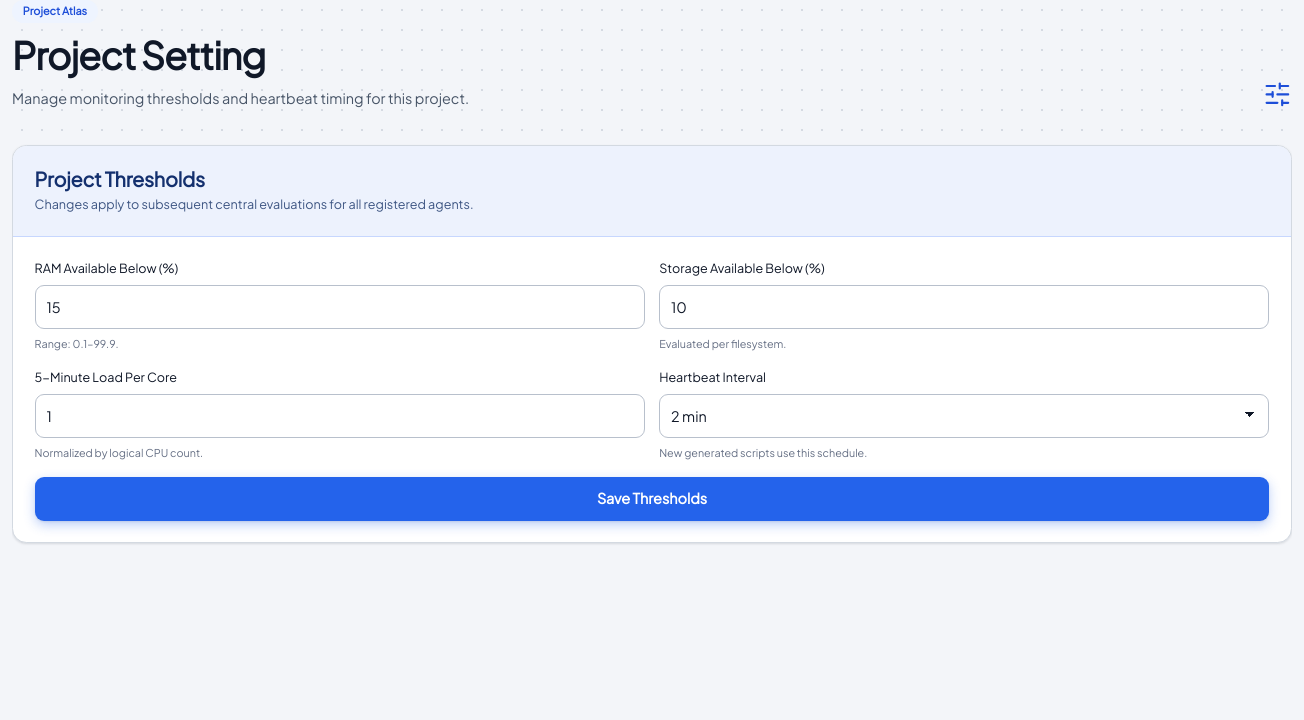
Test case: project Setting page › keeps only project-owned thresholds and confirms a successful save
Check: the heading "Project Setting" is shown, box [12,31,265,78]
Check: the heading "Project Thresholds" is shown, box [35,166,205,192]
Click the button "Save Thresholds". click: (652,498)
box: [35,476,1269,520]
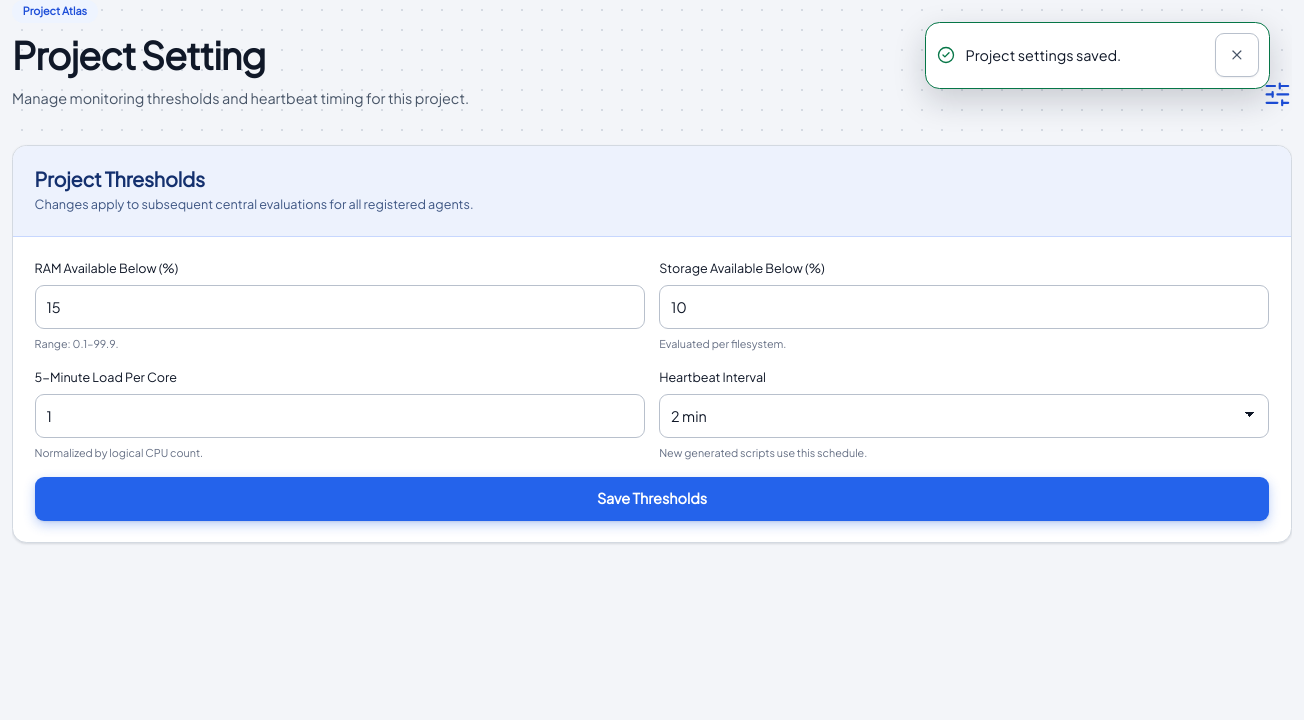
Check: the message reads "Project settings saved.", box [965,46,1121,64]
